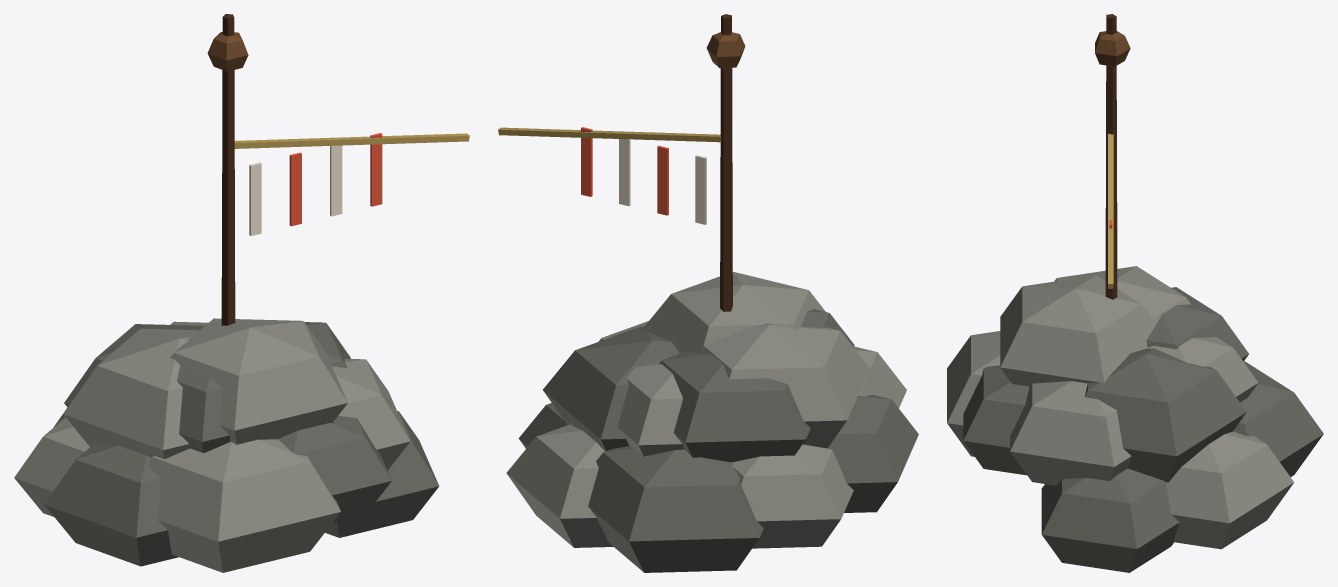
File: prop_pass_cairn.glb
The picture shows the model from 3 angles, left to right: view 1: azimuth 30°, elevation 25°; view 2: azimuth 150°, elevation 25°; view 3: azimuth 270°, elevation 25°; orthographic projection. The views are drawn at different scales.
Parts seen in each view (by area): view 1: prop_pass_cairn; view 2: prop_pass_cairn; view 3: prop_pass_cairn.
Boxes of the visible parts, left/top/right/bottom form: prop_pass_cairn: left=14, top=14, right=469, bottom=572; prop_pass_cairn: left=498, top=14, right=918, bottom=572; prop_pass_cairn: left=947, top=14, right=1323, bottom=572.
Bounding box in the file's own units: 3.15 × 3.84 × 2.67.
